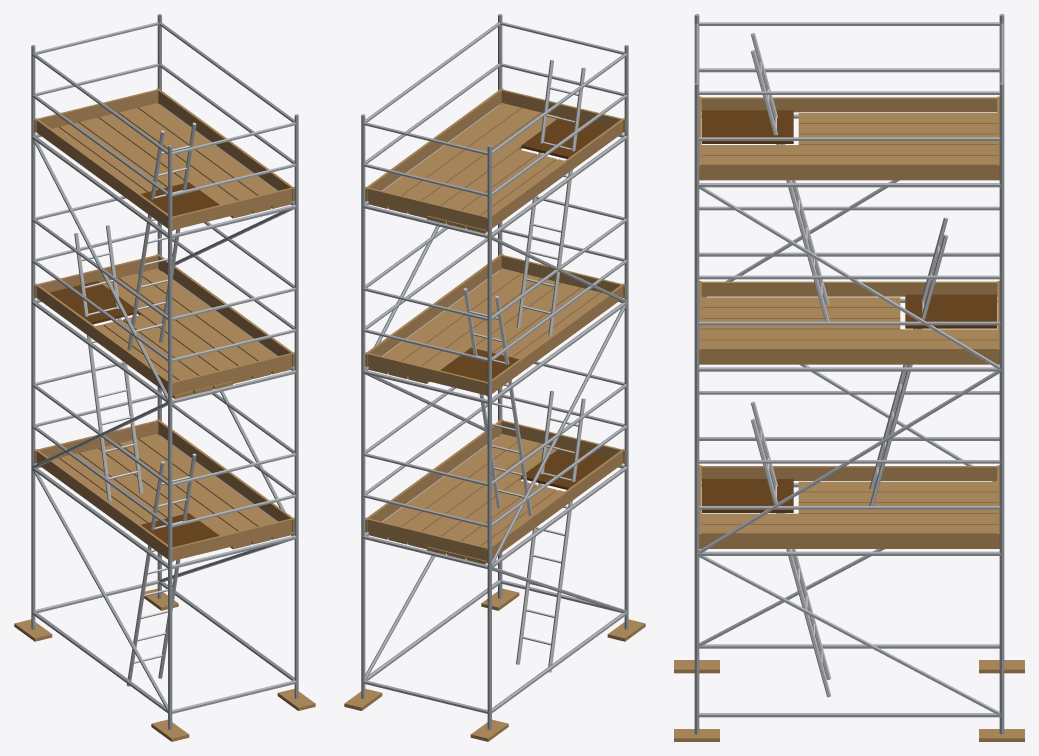
Rendered from plant.access.stair_tower.glb.
3 views of the same model, side by side, from view 1: azimuth 30°, elevation 25°; view 2: azimuth 150°, elevation 25°; view 3: azimuth 270°, elevation 25° (orthographic). The views are drawn at different scales.
Parts seen in each view (by area): view 1: decks__softwood, frame__steel_galvanised, ladders__aluminium, decks__ply_brown, frame__softwood; view 2: decks__softwood, frame__steel_galvanised, ladders__aluminium, decks__ply_brown, frame__softwood; view 3: decks__softwood, frame__steel_galvanised, decks__ply_brown, ladders__aluminium, frame__softwood.
Boxes of the visible parts, x1,y1,x2,y2 form: decks__softwood: [34, 88, 294, 561]; frame__steel_galvanised: [31, 14, 298, 729]; ladders__aluminium: [74, 122, 196, 686]; decks__ply_brown: [49, 182, 219, 547]; frame__softwood: [14, 588, 315, 741]; decks__softwood: [365, 88, 625, 564]; frame__steel_galvanised: [361, 14, 628, 729]; ladders__aluminium: [463, 60, 585, 672]; decks__ply_brown: [440, 115, 610, 489]; frame__softwood: [344, 588, 645, 741]; decks__softwood: [699, 96, 999, 548]; frame__steel_galvanised: [694, 14, 1004, 734]; decks__ply_brown: [702, 110, 996, 512]; ladders__aluminium: [750, 33, 947, 697]; frame__softwood: [674, 660, 1024, 741].
Bounding box in the file's own units: 1.82 × 7.11 × 3.45.
